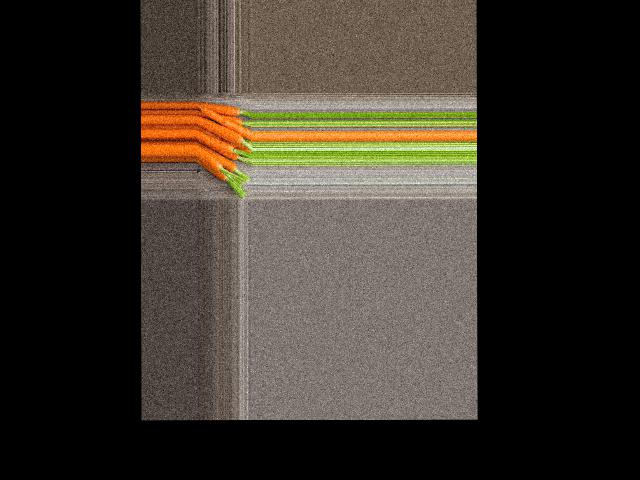carrot: (197, 148, 245, 172)
